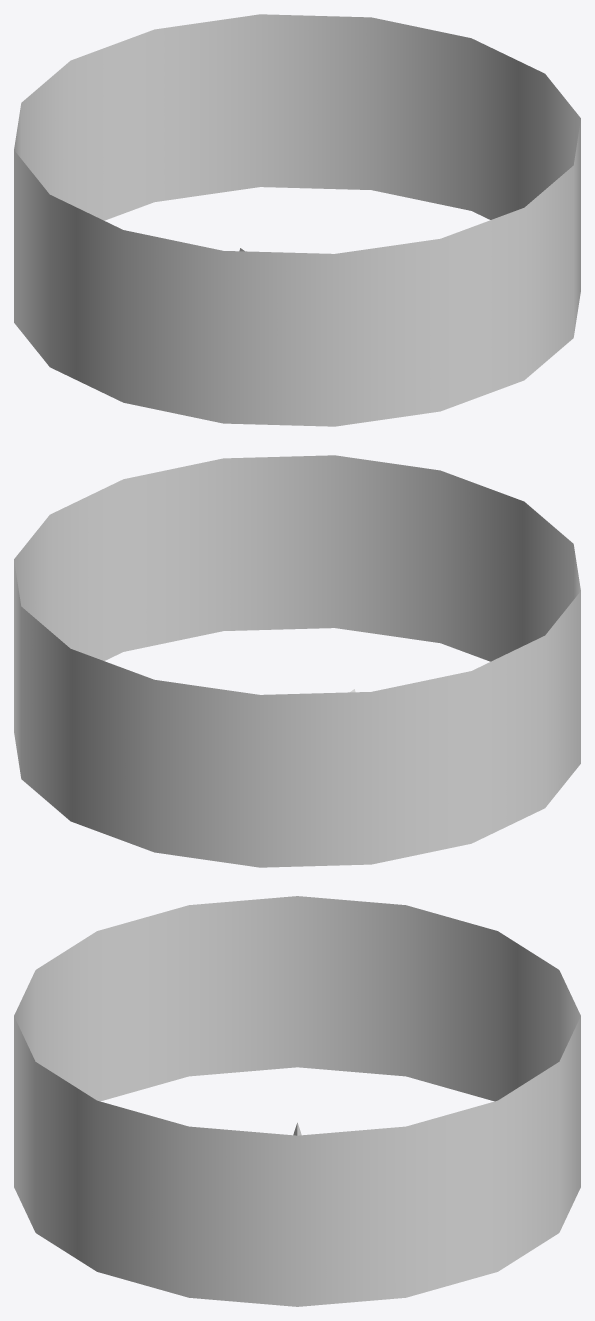
Rendered from godclient_npc_spawn_03m.fbx.
The picture shows the model from 3 angles, top to bottom: view 1: azimuth 30°, elevation 25°; view 2: azimuth 150°, elevation 25°; view 3: azimuth 270°, elevation 25°; orthographic projection.
Visible parts, largest first — view 1: mesh_node; view 2: mesh_node; view 3: mesh_node.
Boxes of the visible parts, left/top/right/bottom form: mesh_node: left=14, top=14, right=580, bottom=426; mesh_node: left=14, top=455, right=580, bottom=867; mesh_node: left=14, top=896, right=580, bottom=1306.
Size of the model in its own units: 3 by 1 by 3.
Materials: 1 (1 with a texture image).
